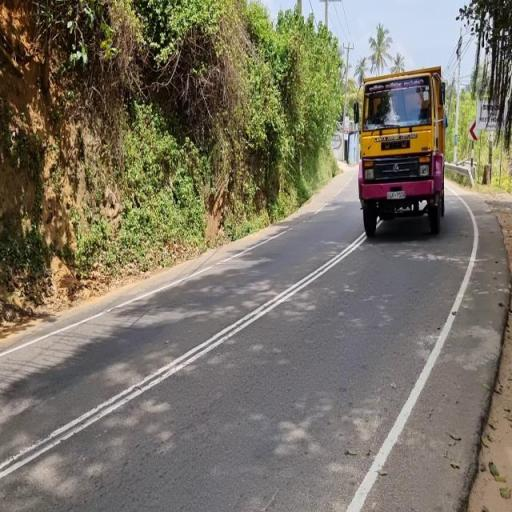double_white_line: (0, 213, 378, 483)
